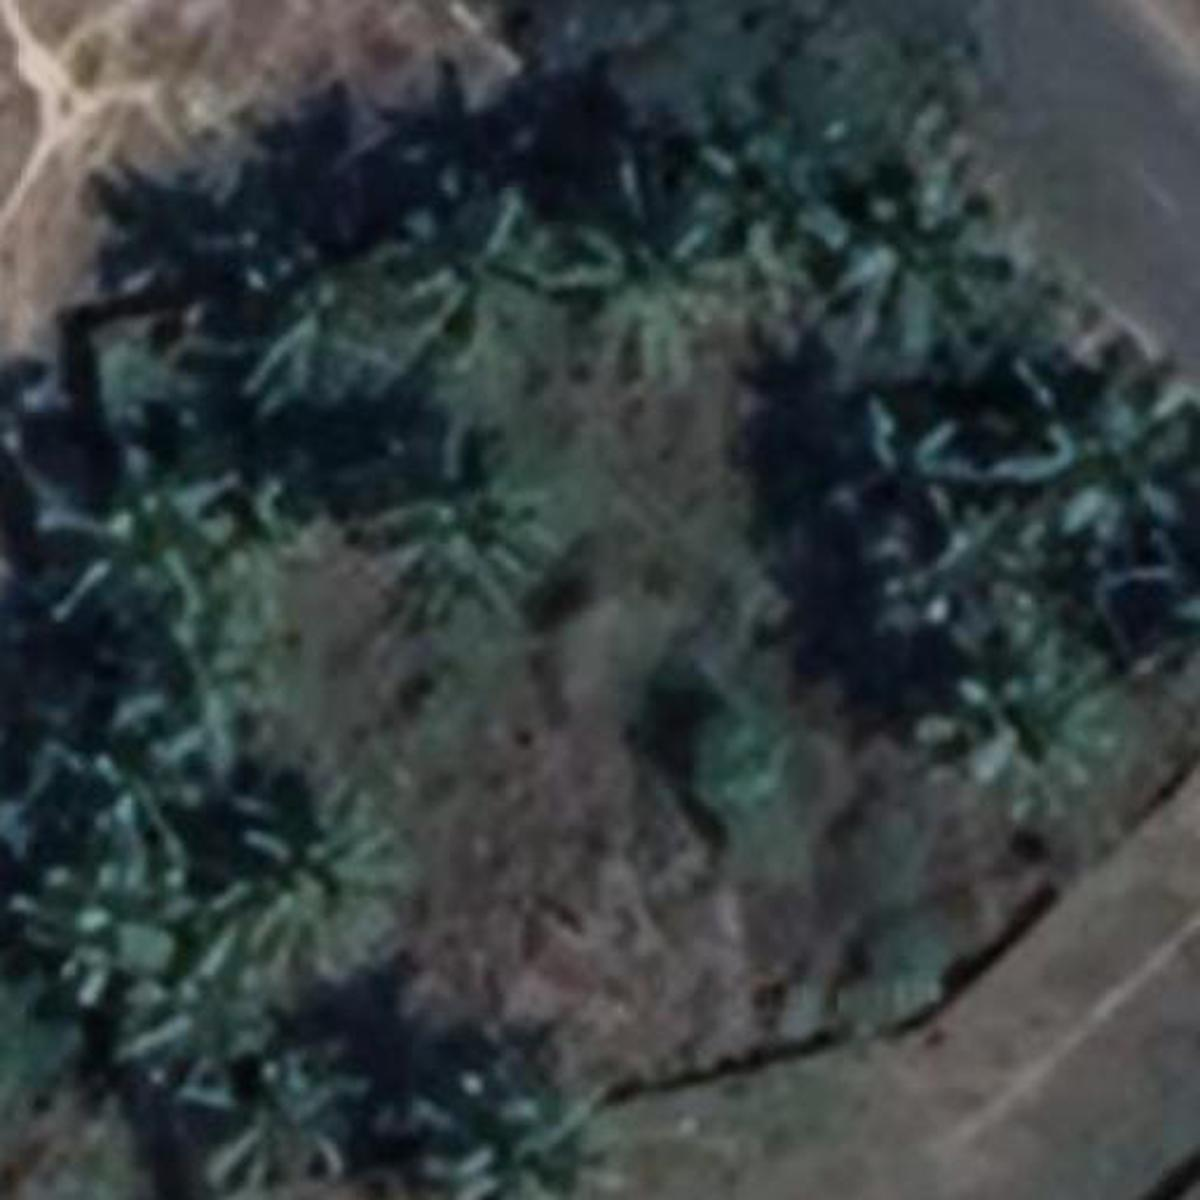coconut: (914, 651, 1141, 853), (203, 816, 424, 1021), (825, 157, 1033, 370), (30, 445, 255, 618), (360, 462, 567, 632), (232, 241, 414, 433), (110, 625, 300, 808), (407, 192, 578, 375), (553, 225, 742, 386), (829, 396, 1000, 564), (421, 1064, 627, 1200), (1024, 410, 1197, 557), (691, 131, 862, 278), (9, 860, 192, 996), (192, 1059, 365, 1185)
